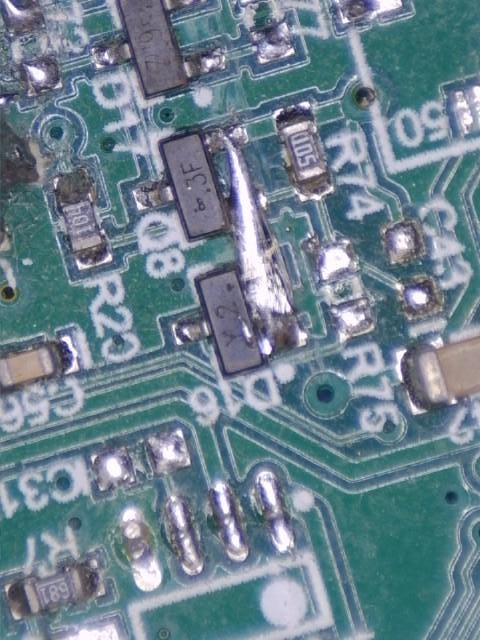pcb_defect: (217, 128, 299, 358)
